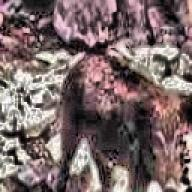boar: (43, 48, 192, 192)
